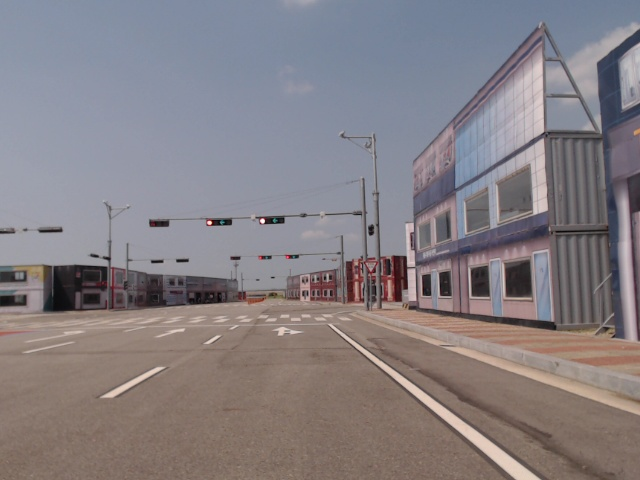left_green_4: (259, 217, 285, 224), (206, 220, 232, 226), (286, 255, 299, 259), (258, 256, 271, 259)
